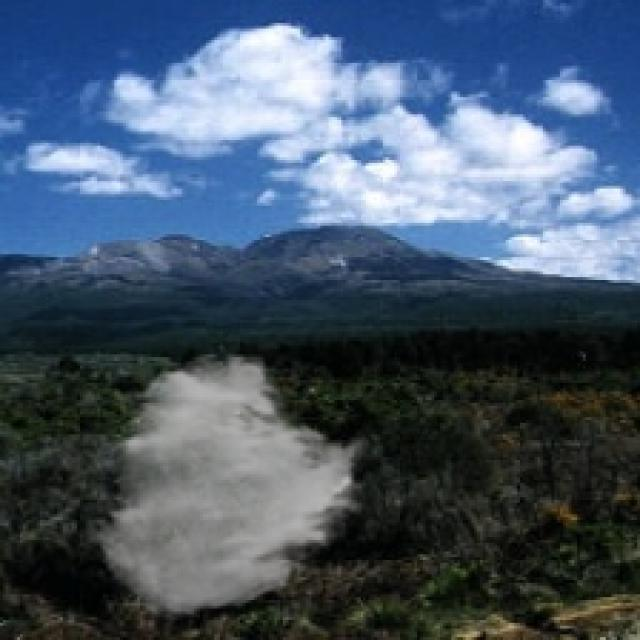Smoke: (94, 348, 374, 620)
